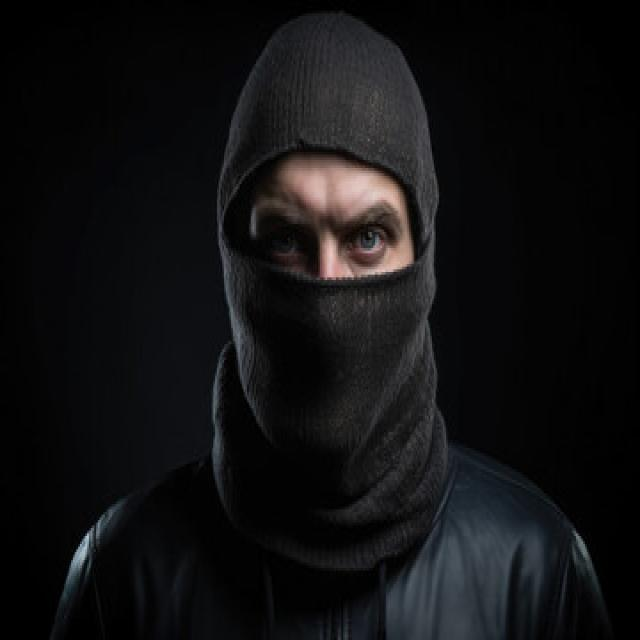handguns: (21, 18, 635, 639)
